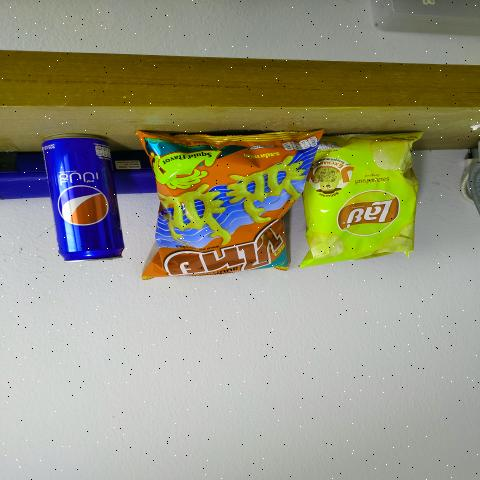pepsi_blue: (39, 126, 128, 260)
